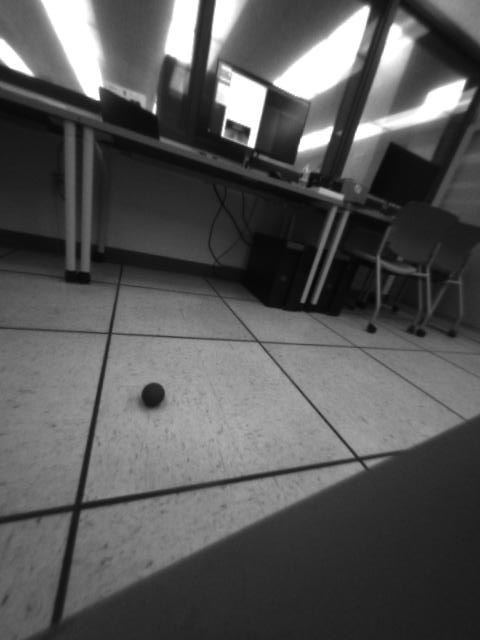dogtoy: (138, 375, 171, 414)
